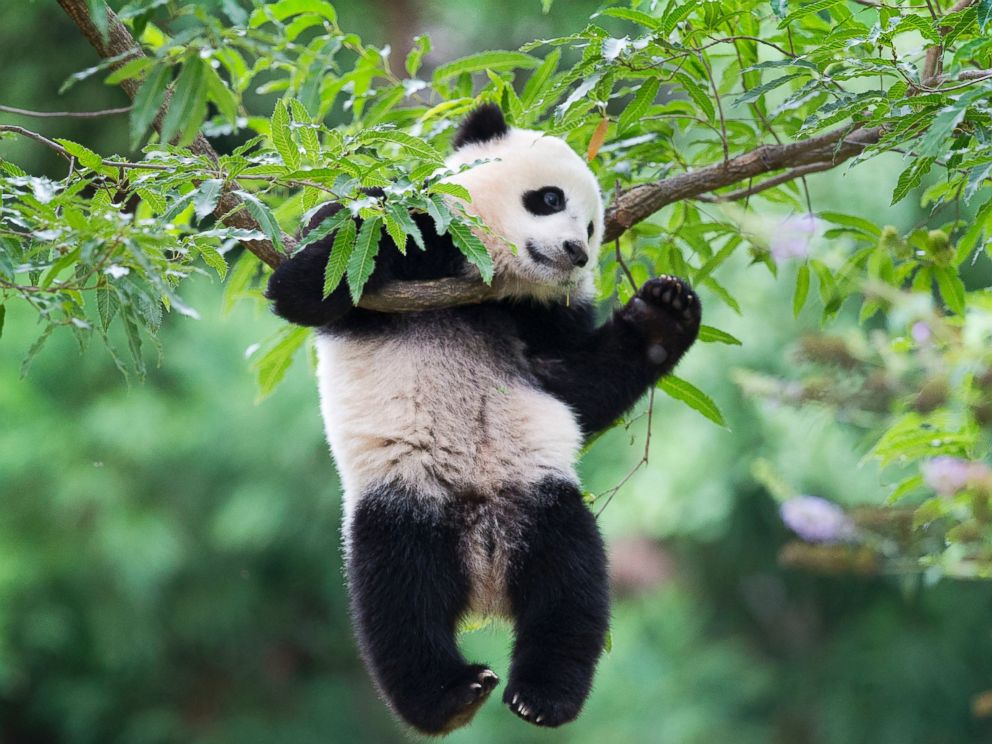panda: (244, 103, 724, 741)
